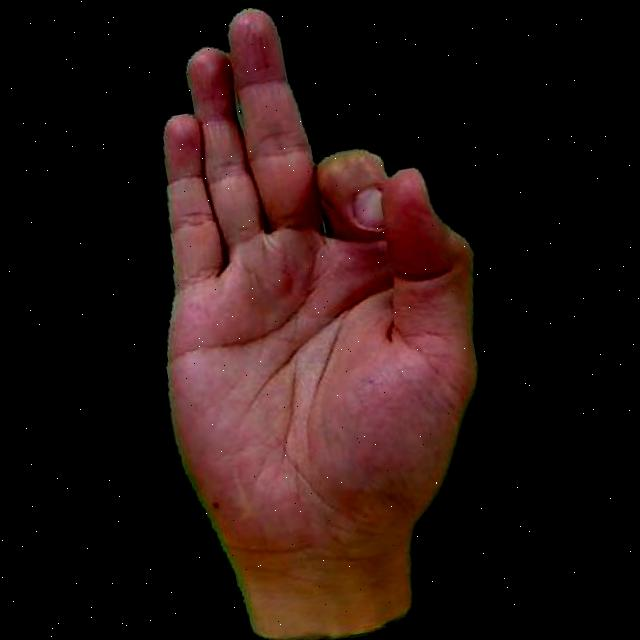f: (96, 0, 538, 640)
